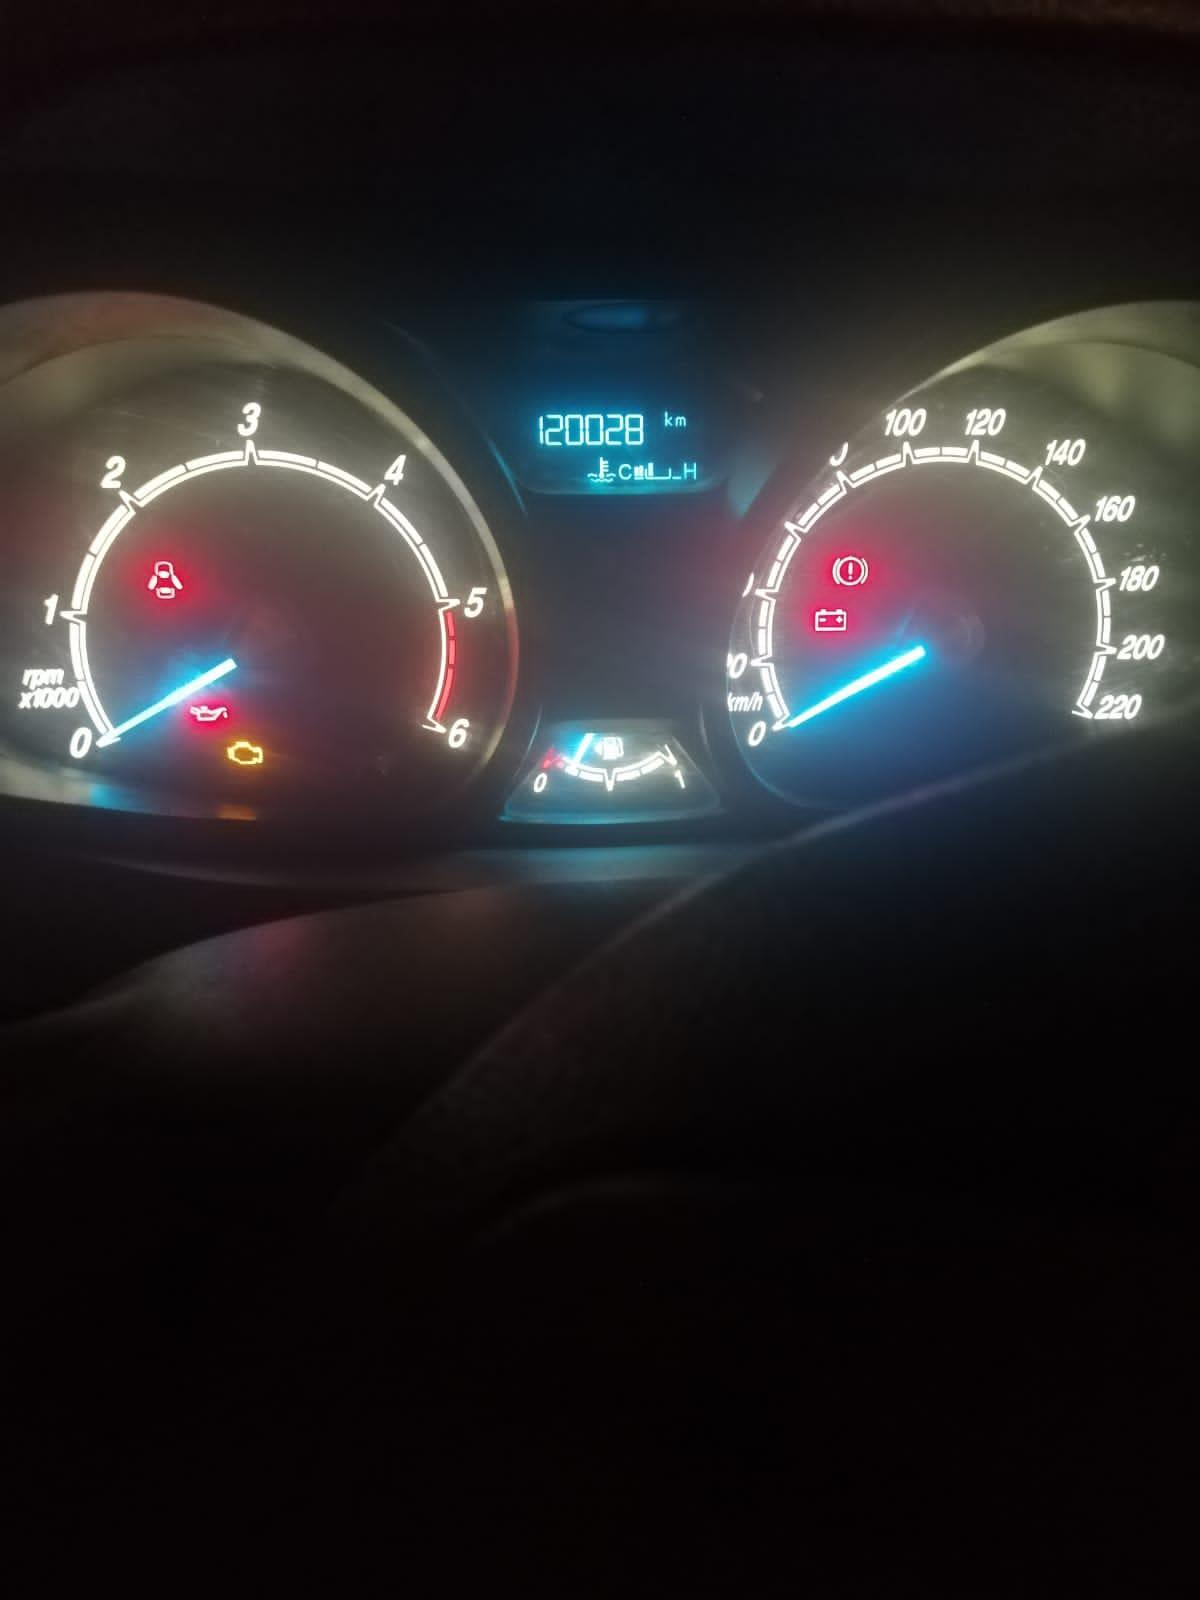0: (563, 414, 584, 446), (584, 413, 603, 446)
1: (538, 414, 545, 443)
2: (545, 414, 563, 446), (604, 413, 623, 445)
8: (624, 413, 643, 445)
X: (616, 464, 632, 480), (683, 461, 696, 480), (663, 409, 672, 427), (674, 416, 686, 427)
odometer: (527, 399, 715, 484)
